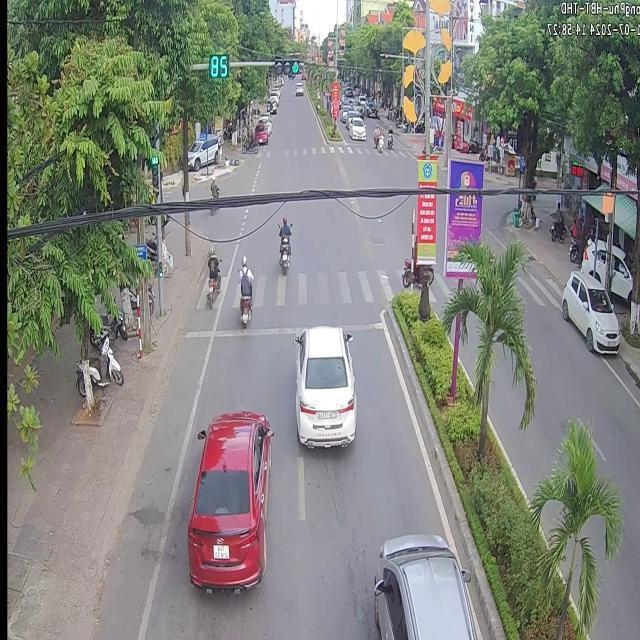car: (182, 405, 273, 603), (371, 540, 473, 638), (291, 320, 356, 451)
green_light: (270, 51, 301, 76), (148, 154, 158, 187)
motobike: (234, 242, 255, 338), (274, 207, 293, 284), (203, 238, 221, 306)
stop_line: (182, 321, 383, 336)
